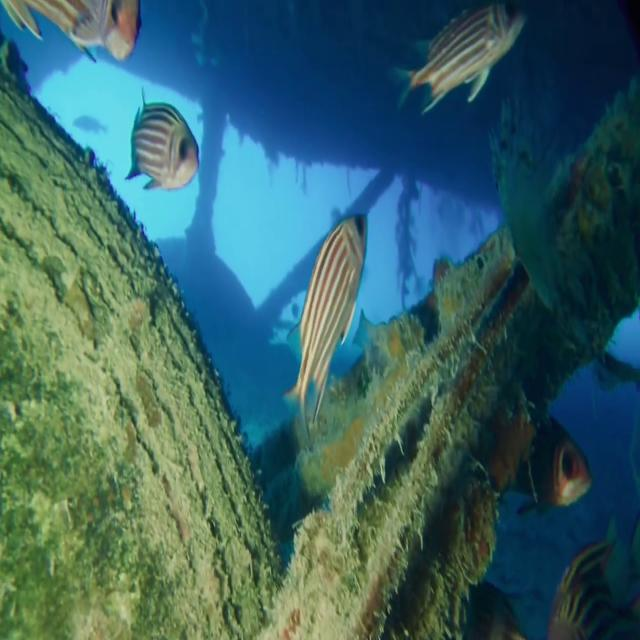Asker Baligi: (282, 210, 368, 450), (388, 0, 525, 140), (124, 85, 200, 193)
